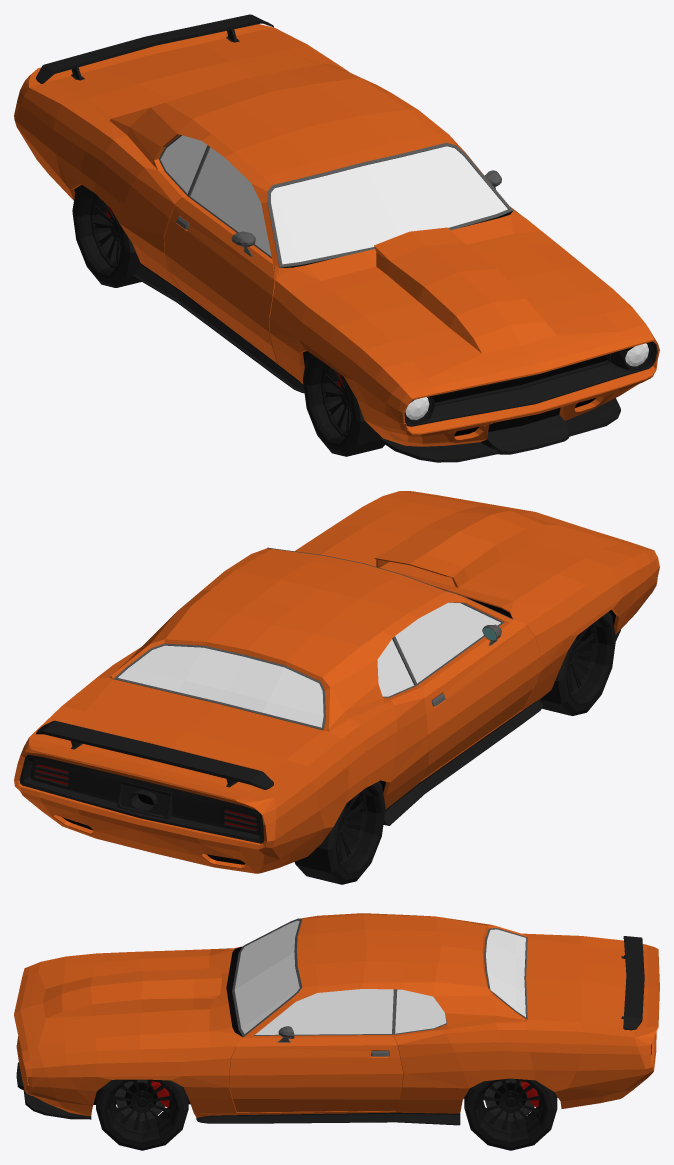
The model's file is LP_Veh_Muscle_23.fbx.
The picture shows the model from 3 angles, top to bottom: view 1: azimuth 30°, elevation 25°; view 2: azimuth 150°, elevation 25°; view 3: azimuth 270°, elevation 25°; orthographic projection. The views are drawn at different scales.
Visible parts, largest first — view 1: LP_Veh_Muscle_23, LP_Veh_Muscle_Glass_001_23, LP_Veh_Muscle_Lower lip bumper_23, LP_Veh_Muscle_Wheel_002_23, LP_Veh_Muscle_Wheel_004_23, LP_Veh_Muscle_Spoiler_001_23; view 2: LP_Veh_Muscle_23, LP_Veh_Muscle_Glass_001_23, LP_Veh_Muscle_Wheel_004_23, LP_Veh_Muscle_Wheel_002_23, LP_Veh_Muscle_Spoiler_001_23, LP_Veh_Muscle_Lower lip bumper_23; view 3: LP_Veh_Muscle_23, LP_Veh_Muscle_Glass_001_23, LP_Veh_Muscle_Wheel_001_23, LP_Veh_Muscle_Wheel_003_23, LP_Veh_Muscle_Lower lip bumper_23, LP_Veh_Muscle_Spoiler_001_23, LP_Veh_Muscle_Brake disk_003_23, LP_Veh_Muscle_Brake disk_001_23.
Boxes of the visible parts, x1,y1,x2,y2 form: LP_Veh_Muscle_23: (14,24,659,446); LP_Veh_Muscle_Glass_001_23: (160,135,507,264); LP_Veh_Muscle_Lower lip bumper_23: (132,263,620,462); LP_Veh_Muscle_Wheel_002_23: (303,353,384,456); LP_Veh_Muscle_Wheel_004_23: (72,185,141,287); LP_Veh_Muscle_Spoiler_001_23: (36,14,273,83); LP_Veh_Muscle_23: (14,491,659,873); LP_Veh_Muscle_Glass_001_23: (118,602,500,727); LP_Veh_Muscle_Wheel_004_23: (294,781,385,884); LP_Veh_Muscle_Wheel_002_23: (539,611,615,715); LP_Veh_Muscle_Spoiler_001_23: (36,720,273,789); LP_Veh_Muscle_Lower lip bumper_23: (383,630,620,825); LP_Veh_Muscle_23: (14,913,659,1117); LP_Veh_Muscle_Glass_001_23: (234,920,525,1034); LP_Veh_Muscle_Wheel_001_23: (96,1079,188,1150); LP_Veh_Muscle_Wheel_003_23: (464,1078,557,1150); LP_Veh_Muscle_Lower lip bumper_23: (16,1062,460,1125); LP_Veh_Muscle_Spoiler_001_23: (621,936,644,1030); LP_Veh_Muscle_Brake disk_003_23: (484,1078,538,1121); LP_Veh_Muscle_Brake disk_001_23: (115,1079,169,1121).
Size of the model in its own units: 2.08 by 1.42 by 5.34.
